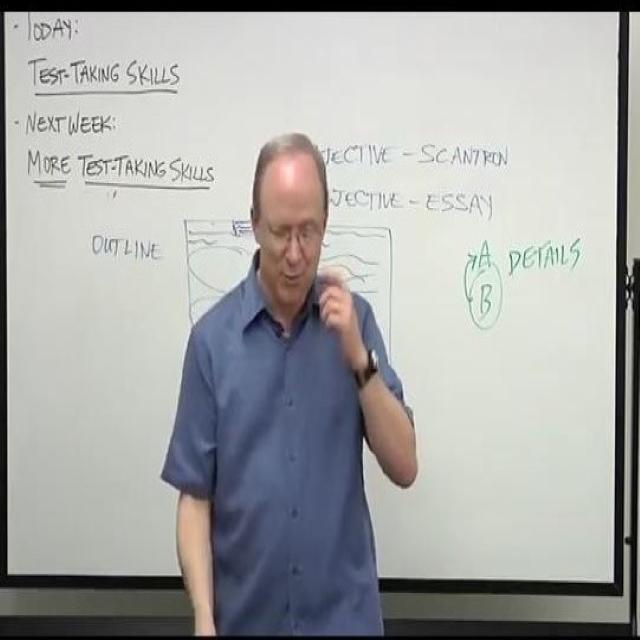Instructor: (184, 124, 385, 609)
White-board: (9, 1, 620, 576)
